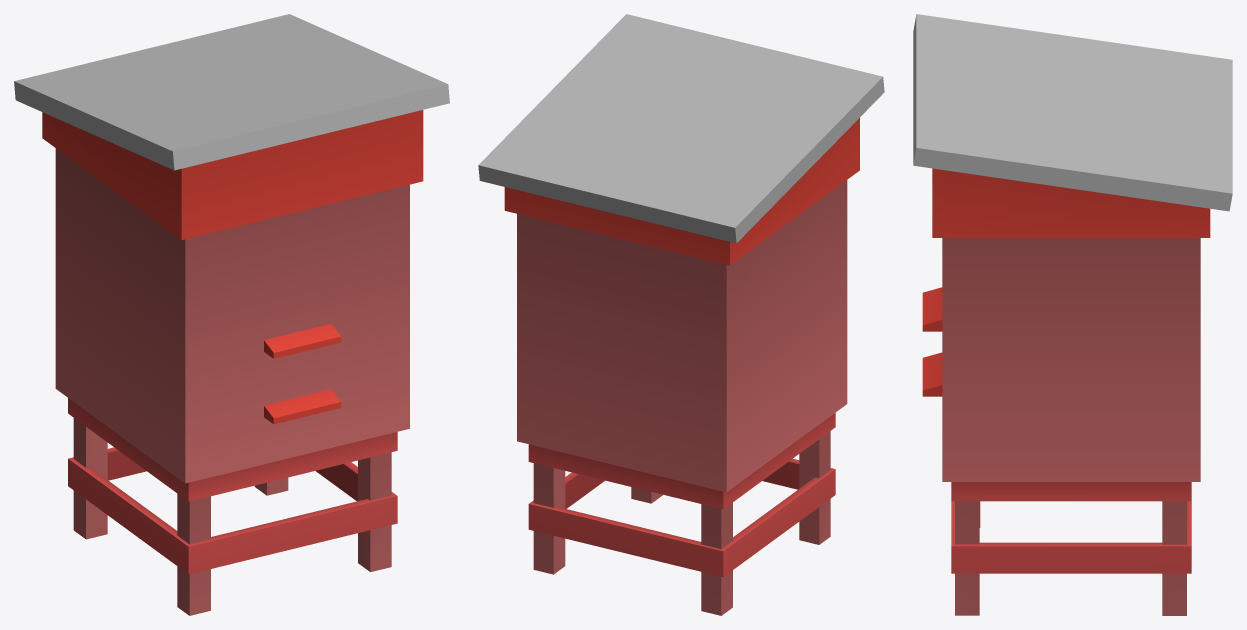
File: apiary_003.glb
3 views of the same model, side by side, from view 1: azimuth 30°, elevation 25°; view 2: azimuth 150°, elevation 25°; view 3: azimuth 270°, elevation 25° (orthographic). The views are drawn at different scales.
Parts seen in each view (by area): view 1: apiary_003; view 2: apiary_003; view 3: apiary_003.
Part boxes in pixels (x1,y1,x2,y2): apiary_003: [14, 14, 449, 615]; apiary_003: [478, 14, 884, 615]; apiary_003: [913, 14, 1232, 615].
Size of the model in its own units: 0.7509 by 1.27 by 0.7572.
1 material, 1 textured.
